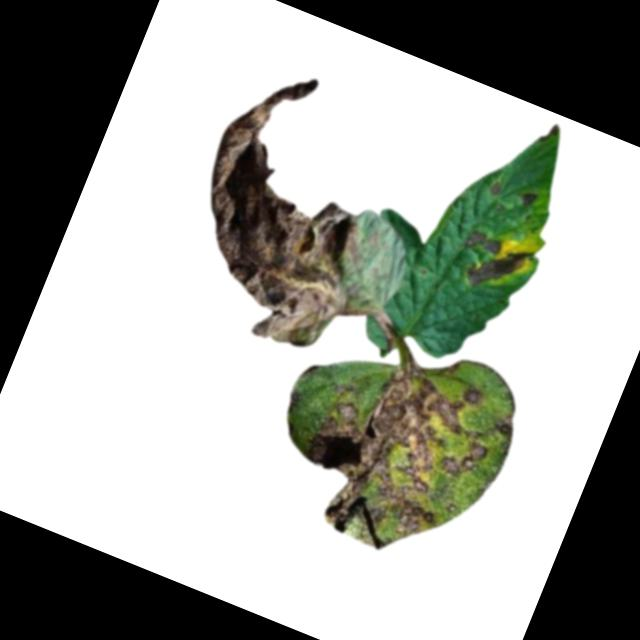Early_blight: (156, 52, 428, 365), (278, 332, 530, 585), (446, 220, 539, 303), (517, 186, 539, 208), (484, 176, 505, 197)
